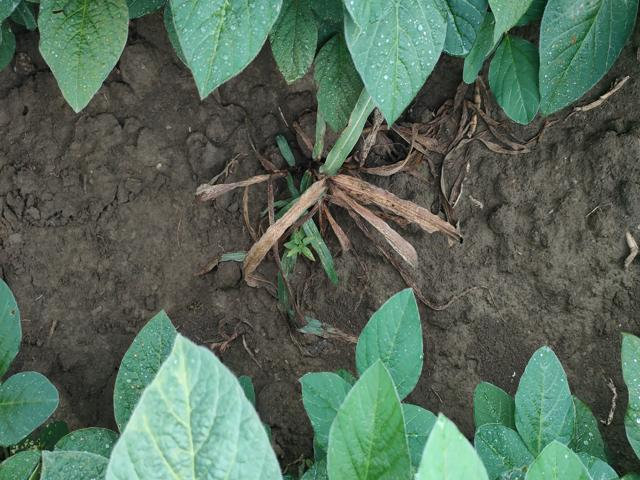bad weed: (201, 77, 442, 323), (273, 230, 326, 269)
